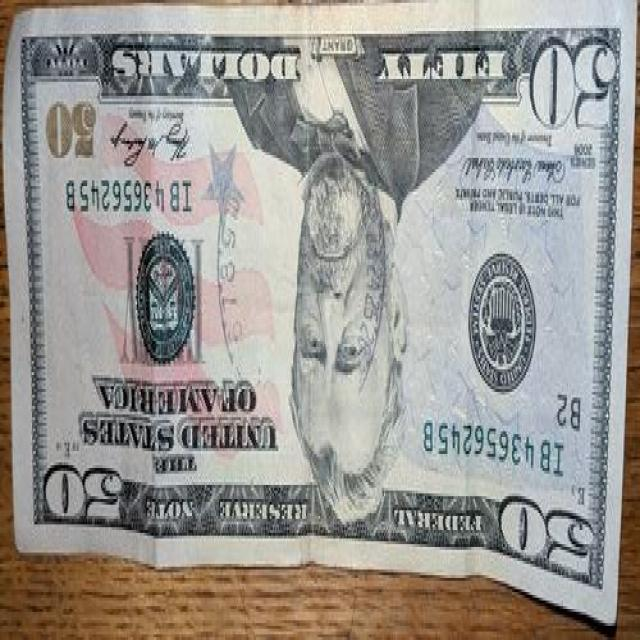50-Front: (6, 8, 630, 620)
